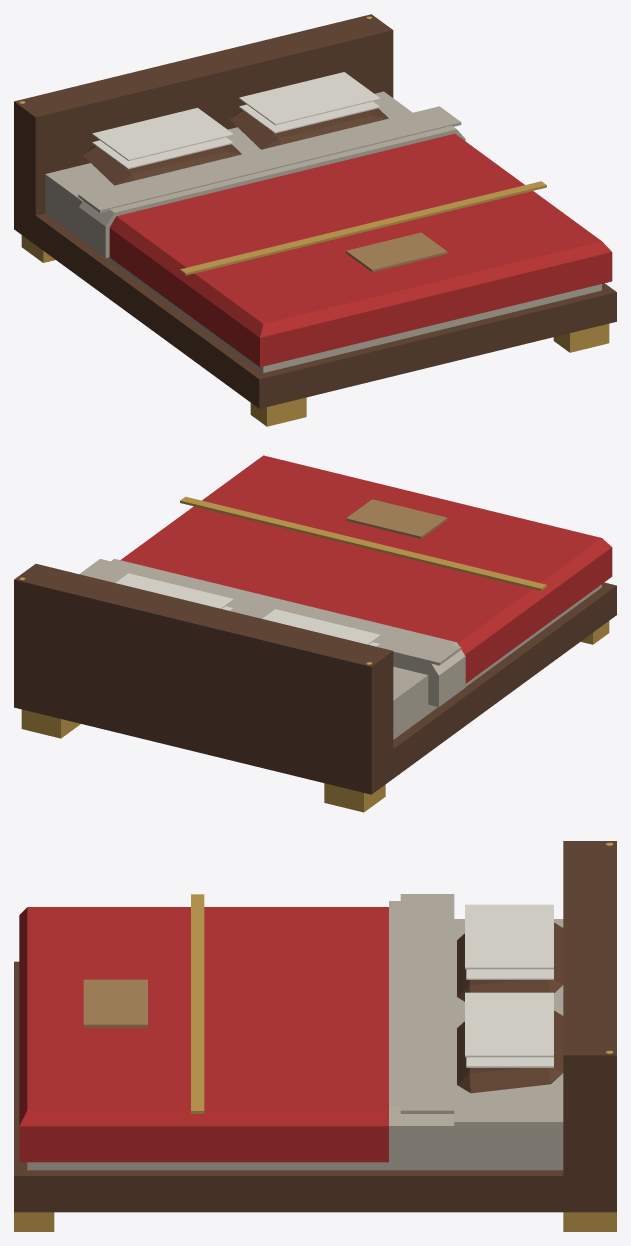
The model's file is bedDouble.glb.
3 views of the same model, one above another, from view 1: azimuth 30°, elevation 25°; view 2: azimuth 150°, elevation 25°; view 3: azimuth 270°, elevation 25° (orthographic). The views are drawn at different scales.
Visible parts, largest first — view 1: cover, bedDouble(Clone), pillowLeft, pillowRight; view 2: bedDouble(Clone), cover, pillowRight, pillowLeft; view 3: cover, bedDouble(Clone), pillowRight, pillowLeft.
Part boxes in pixels (left/top/right/bottom): cover: left=78, top=106, right=612, bottom=367; bedDouble(Clone): left=14, top=14, right=616, bottom=426; pillowLeft: left=83, top=107, right=241, bottom=185; pillowRight: left=230, top=72, right=388, bottom=149; bedDouble(Clone): left=14, top=499, right=616, bottom=812; cover: left=79, top=455, right=612, bottom=706; pillowRight: left=116, top=573, right=233, bottom=611; pillowLeft: left=262, top=609, right=380, bottom=646; cover: left=19, top=894, right=454, bottom=1164; bedDouble(Clone): left=14, top=841, right=616, bottom=1231; pillowRight: left=457, top=992, right=563, bottom=1093; pillowLeft: left=457, top=904, right=563, bottom=1001.
Size of the model in its own units: 0.956 by 0.375 by 1.12.
